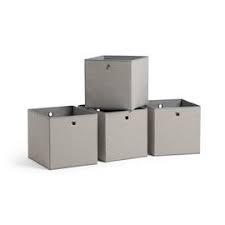cube: (28, 106, 99, 170), (83, 56, 148, 107), (148, 98, 202, 156)
